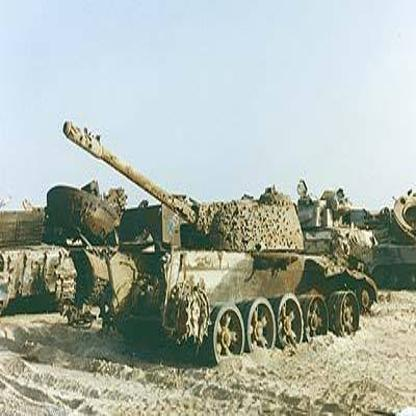Tank: (60, 121, 384, 366)
